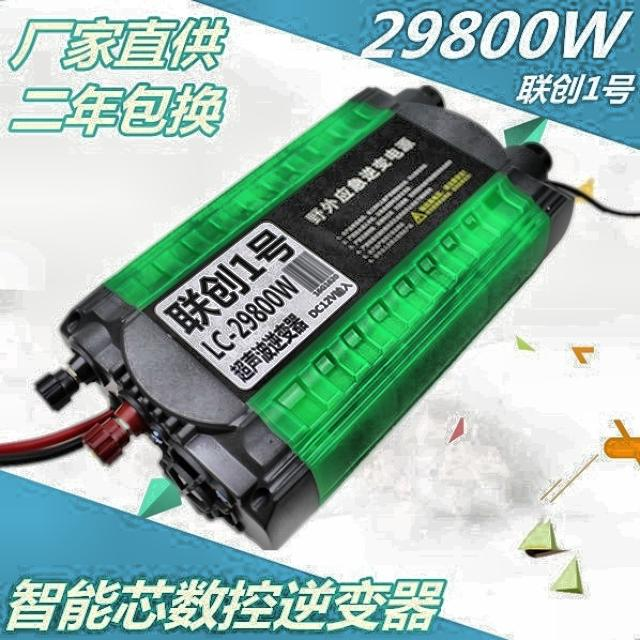Non-Valuable Waste - Batteries: (0, 87, 574, 549)
